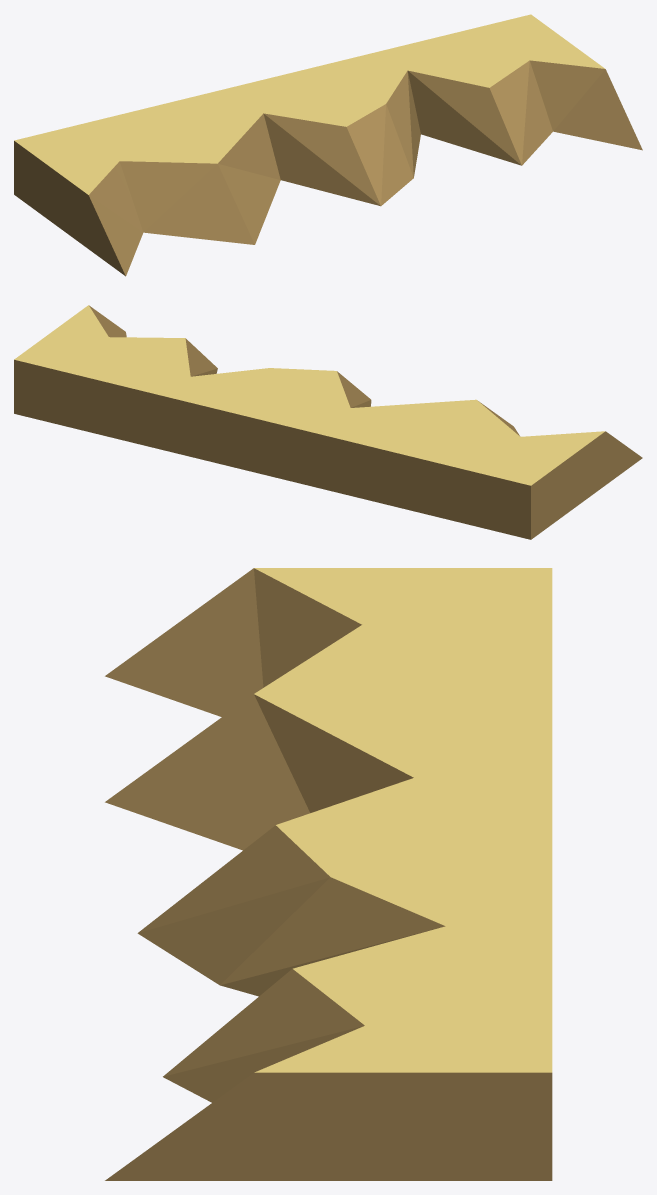
The model's file is Terrain_Modular_Tiles_Sand_Dirt_Cliff_Edge_Straight_Inner_02.fbx.
The picture shows the model from 3 angles, top to bottom: view 1: azimuth 30°, elevation 25°; view 2: azimuth 150°, elevation 25°; view 3: azimuth 270°, elevation 25°; orthographic projection. The views are drawn at different scales.
Visible parts, largest first — view 1: Terrain_Modular_Tiles_Sand_Dirt_Cliff_Edge_Straight_Inner_02; view 2: Terrain_Modular_Tiles_Sand_Dirt_Cliff_Edge_Straight_Inner_02; view 3: Terrain_Modular_Tiles_Sand_Dirt_Cliff_Edge_Straight_Inner_02.
Part boxes in pixels (x1,y1,x2,y2): Terrain_Modular_Tiles_Sand_Dirt_Cliff_Edge_Straight_Inner_02: (14, 14, 642, 276); Terrain_Modular_Tiles_Sand_Dirt_Cliff_Edge_Straight_Inner_02: (14, 305, 642, 539); Terrain_Modular_Tiles_Sand_Dirt_Cliff_Edge_Straight_Inner_02: (105, 568, 552, 1180).
Size of the model in its own units: 118 by 11.81 by 44.29.
